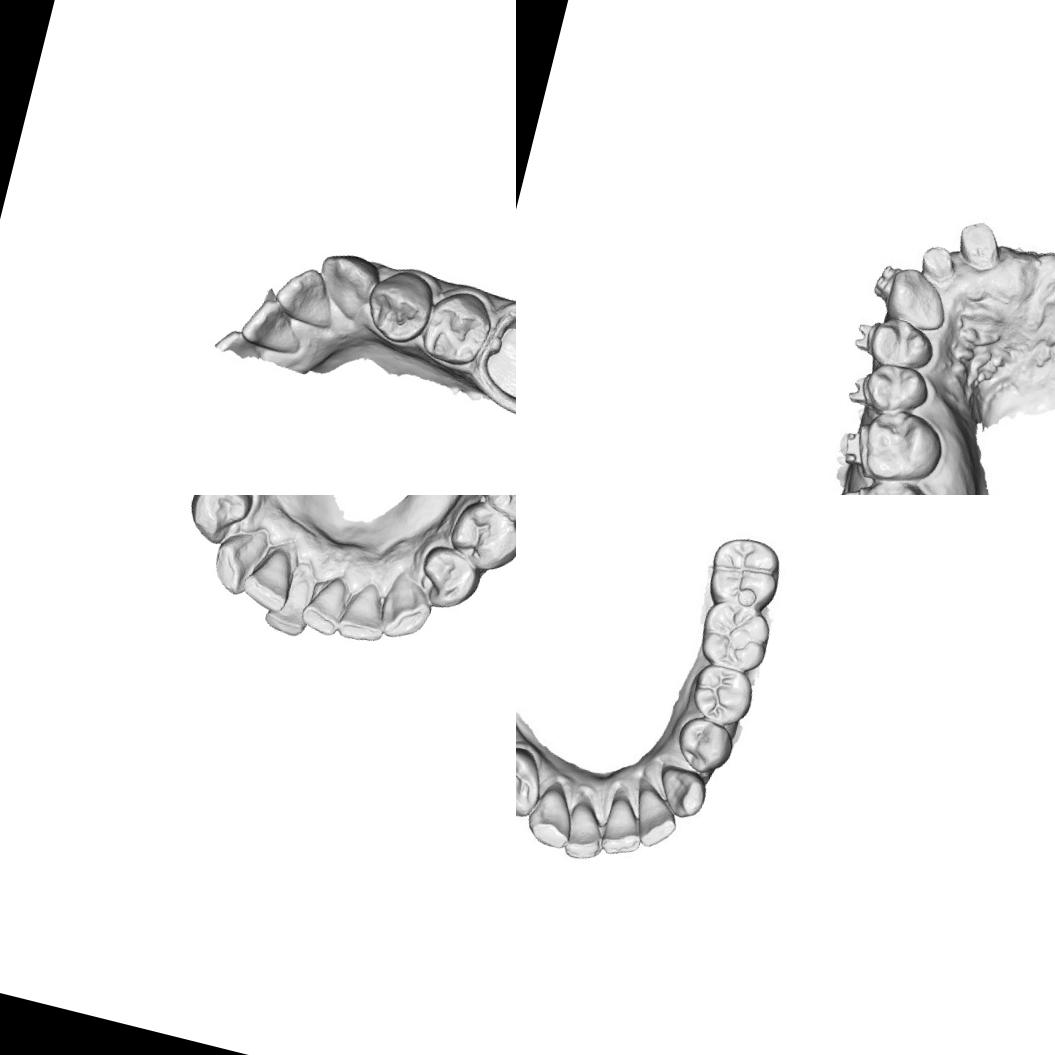canine: (308, 245, 384, 328), (205, 524, 268, 602), (372, 576, 438, 648), (522, 780, 582, 852), (653, 762, 713, 820)
crown: (475, 306, 516, 412), (954, 217, 1006, 275), (916, 240, 962, 282)
incisor: (268, 259, 342, 331), (237, 291, 312, 360), (260, 569, 318, 642), (884, 268, 948, 328), (332, 584, 392, 648), (298, 575, 351, 640), (239, 549, 293, 610), (559, 795, 610, 859), (629, 789, 682, 850), (602, 788, 650, 854)
molar: (706, 532, 785, 618), (861, 406, 946, 484), (696, 598, 776, 676), (850, 473, 937, 495)
premolar: (415, 283, 497, 373), (360, 262, 440, 350), (442, 495, 516, 576), (409, 542, 482, 619), (688, 662, 754, 728), (866, 312, 933, 375), (183, 495, 257, 549), (864, 359, 932, 417), (674, 715, 734, 775), (516, 736, 545, 821)
